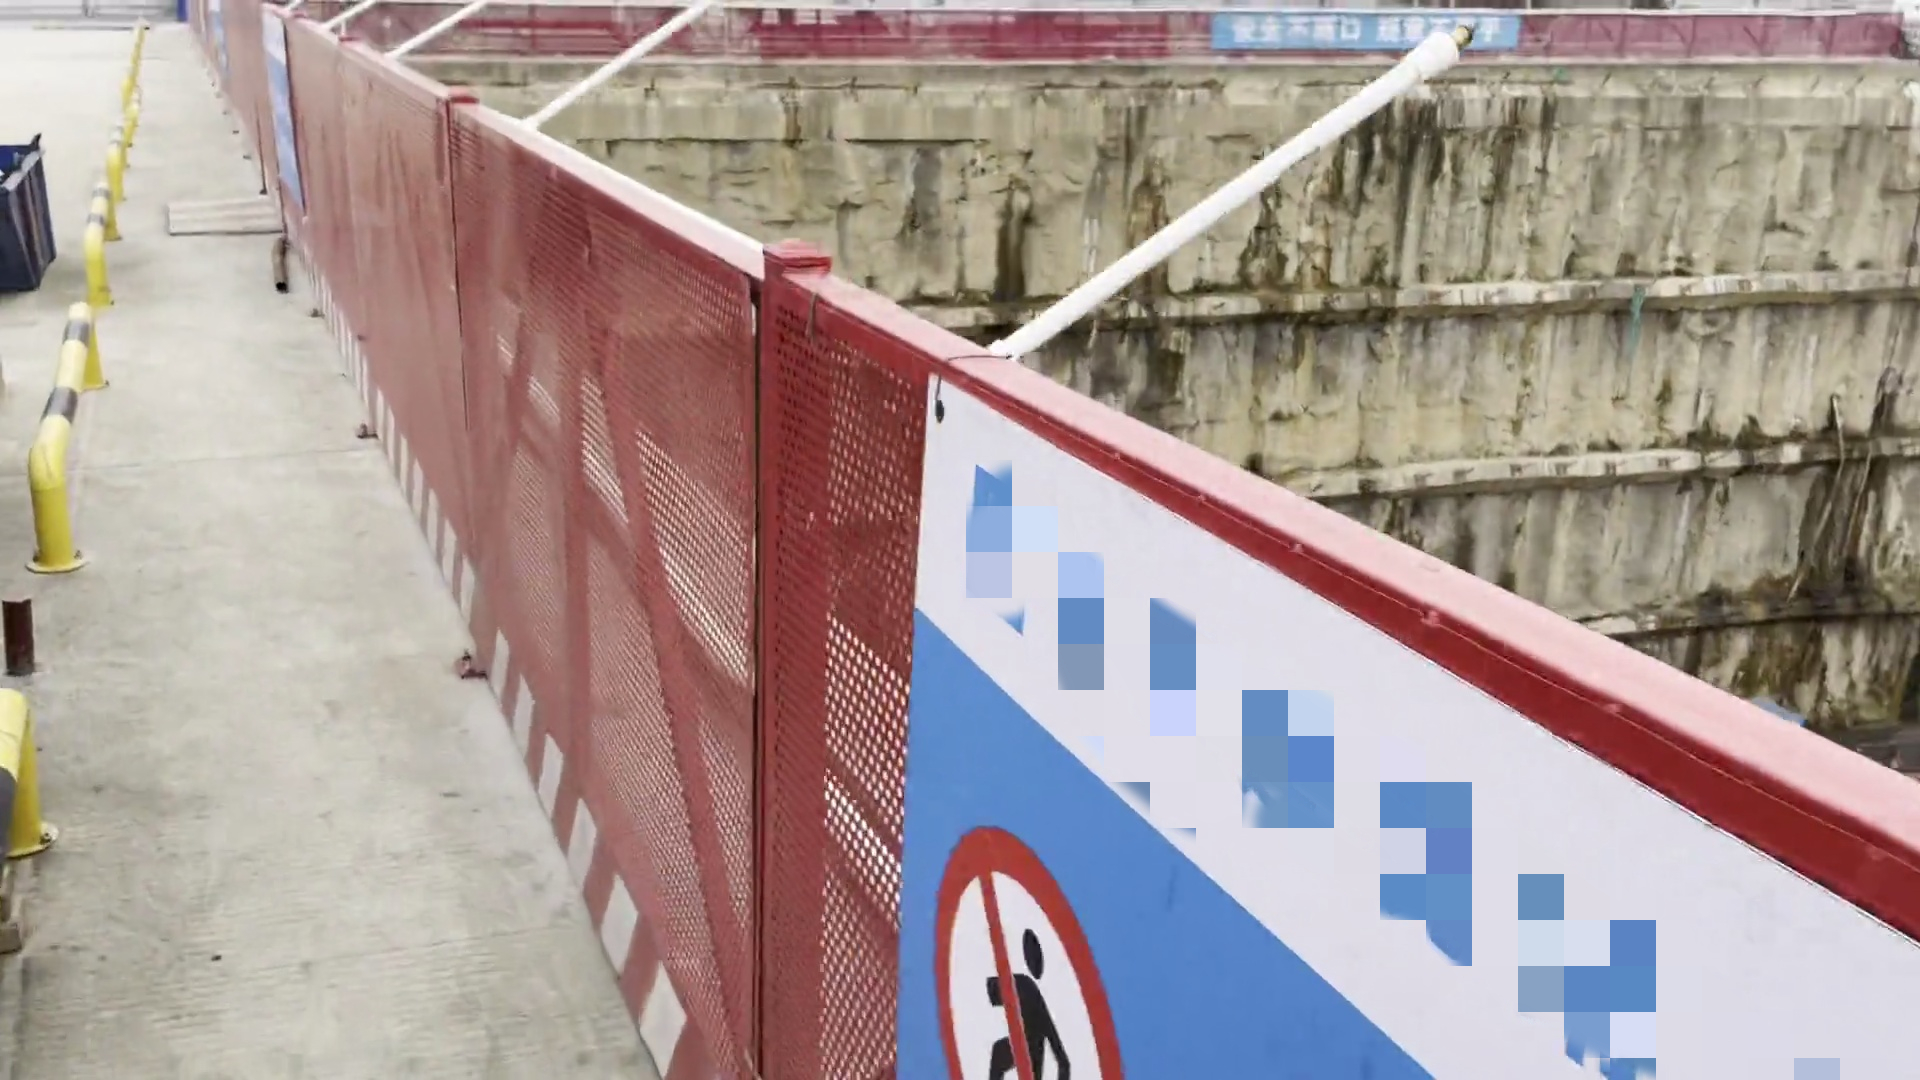fence: (771, 239, 1917, 1080), (179, 4, 785, 1080), (769, 1, 1913, 80)
hopper: (3, 131, 67, 307)
slogan: (887, 373, 1920, 1080), (1203, 3, 1530, 73), (237, 8, 327, 237)
